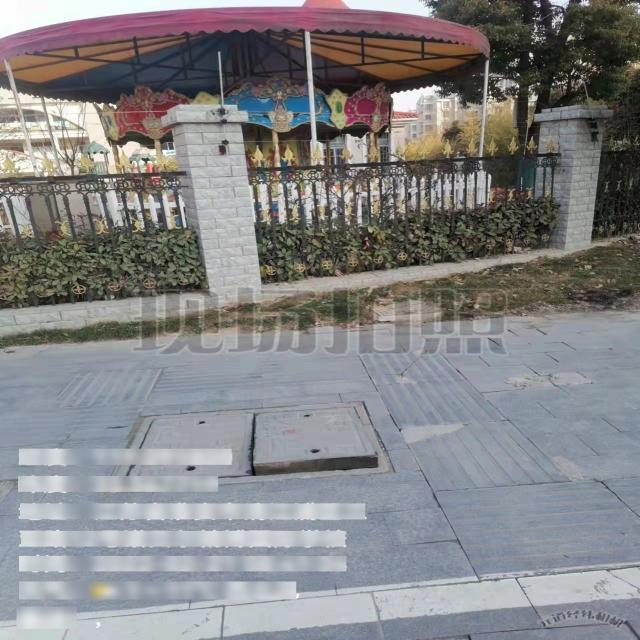Lose: (106, 402, 397, 492)
